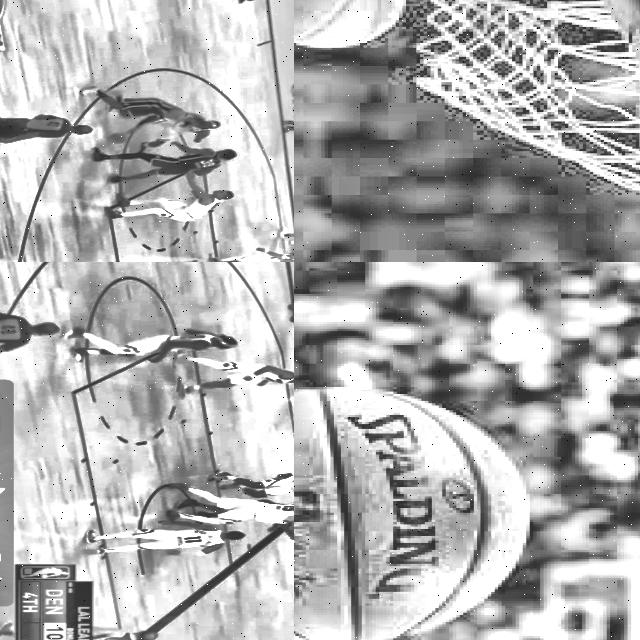Basketball: (294, 389, 525, 640), (294, 0, 405, 48), (108, 133, 128, 143)
